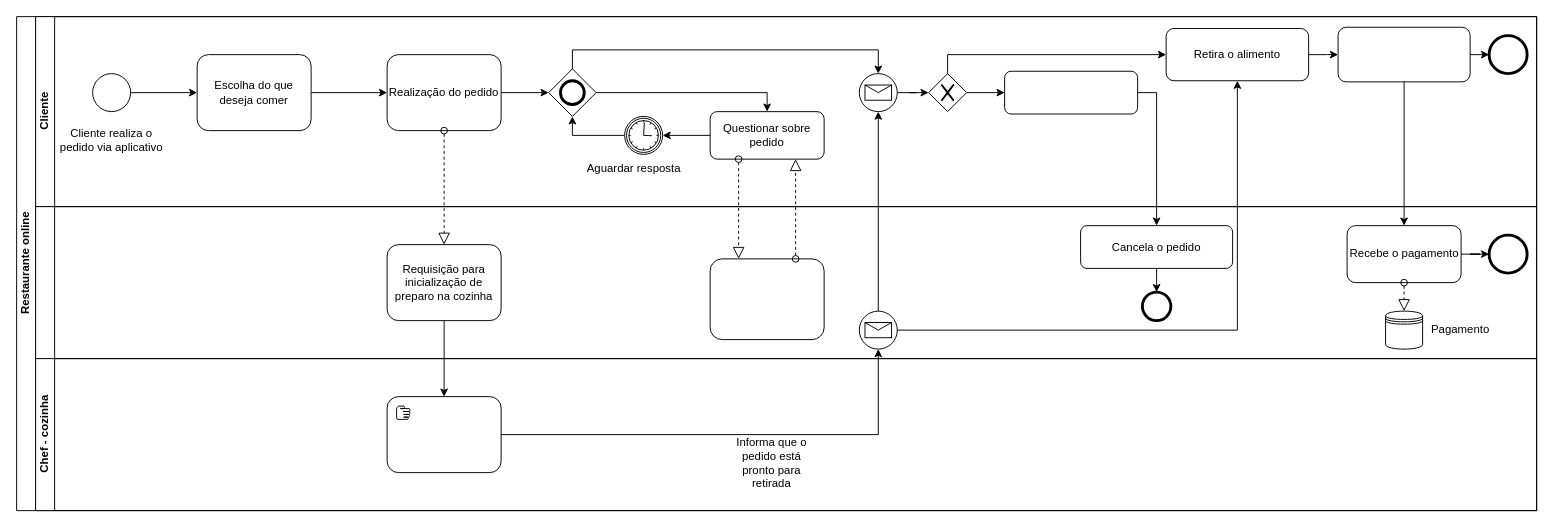
This 1553x527 diagram has some shape labels left out. Each missing label, with the box of its shape:
Acalmar o cliente e informar sobre o pedido: (709, 258, 824, 340)
Atendente: (35, 206, 1537, 359)
Cliente não aparece: (1004, 70, 1138, 114)
Efetua o pagamento: (1337, 26, 1470, 82)
Preparo do alimento: (386, 396, 501, 473)
